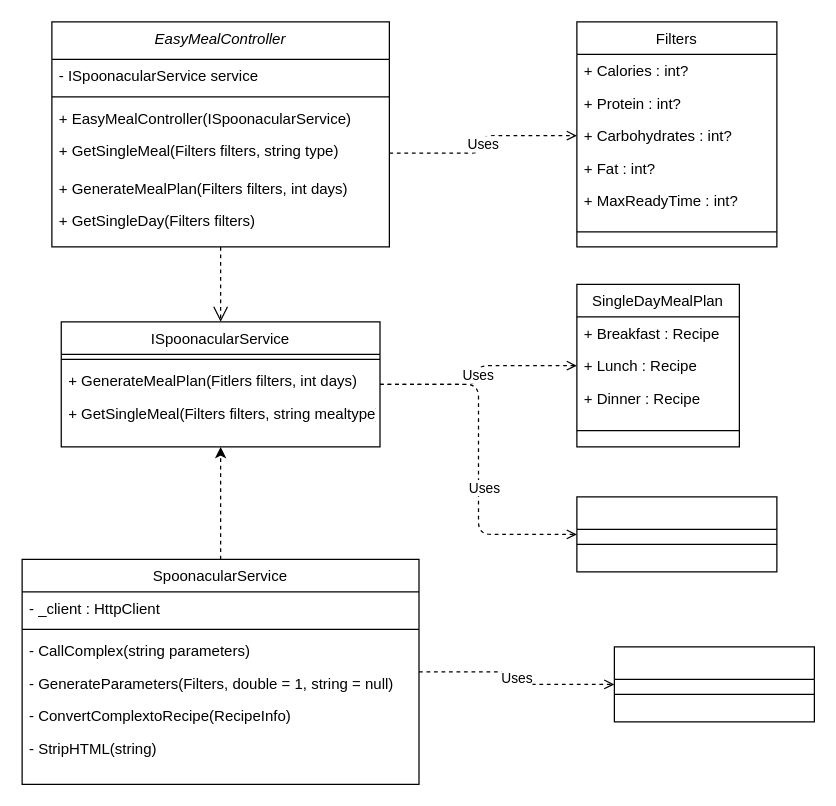
This 836x806 diagram has some shape labels left out. Here are the shapes that lost their labels. From the top down, the centre of each, then its label:
At (x=676, y=534): "Recipe".
At (x=713, y=684): "RecipeInfo".
